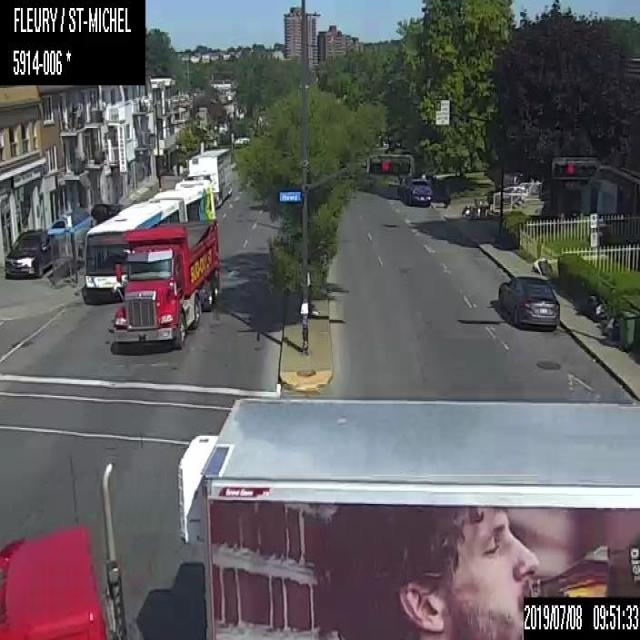bus: (83, 179, 216, 303)
vehicle: (0, 394, 639, 637), (114, 220, 220, 348), (496, 274, 560, 326), (0, 225, 57, 278), (187, 146, 232, 204), (396, 175, 434, 205)
